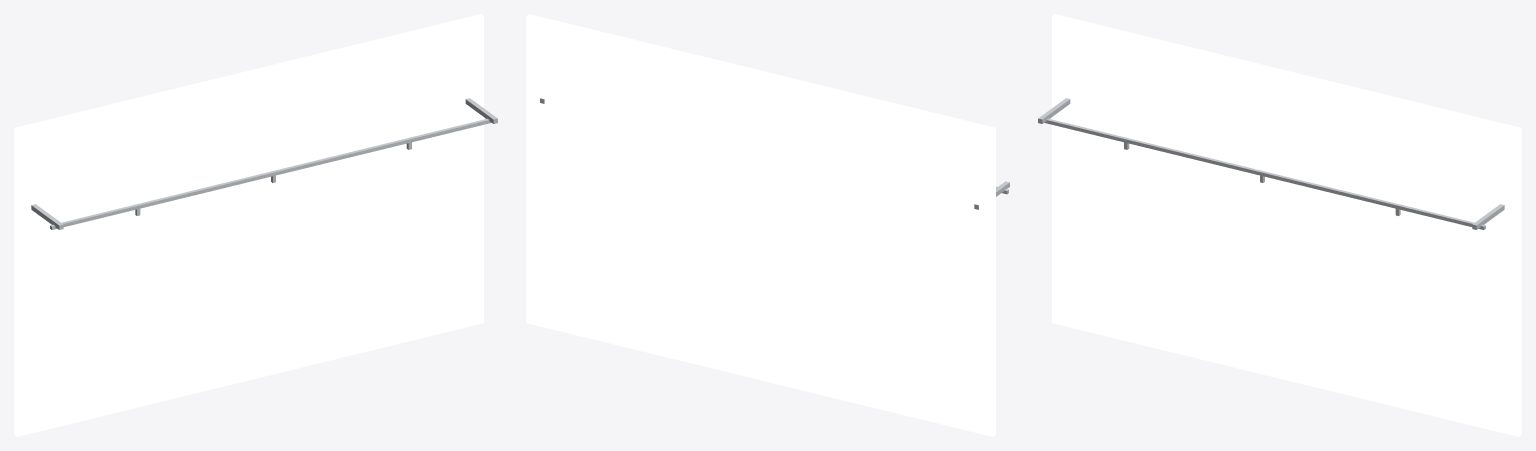
3 renders of one model, left to right at view 1: azimuth 30°, elevation 25°; view 2: azimuth 150°, elevation 25°; view 3: azimuth 330°, elevation 25°, orthographic.
Visible parts, largest first — view 1: Decor_clothes_wall_rail; view 2: Decor_clothes_wall_rail; view 3: Decor_clothes_wall_rail.
Part boxes in pixels (x1,y1,x2,y2): Decor_clothes_wall_rail: (14,14,497,436); Decor_clothes_wall_rail: (526,14,1009,436); Decor_clothes_wall_rail: (1038,14,1521,436).
Bounding box in the file's own units: 4.3 × 2.7 × 0.5.
Materials: 2 (1 with a texture image).
